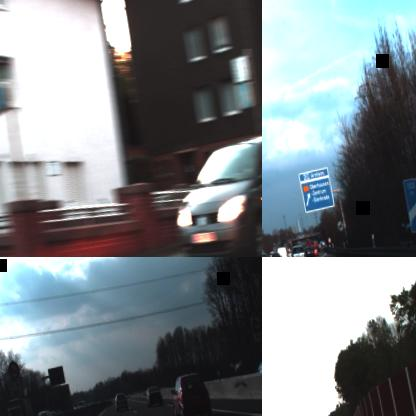no overtaking -trucks-: (7, 359, 21, 381), (249, 310, 262, 333)
restriction ends -overtaking -trucks--: (336, 219, 344, 231)
